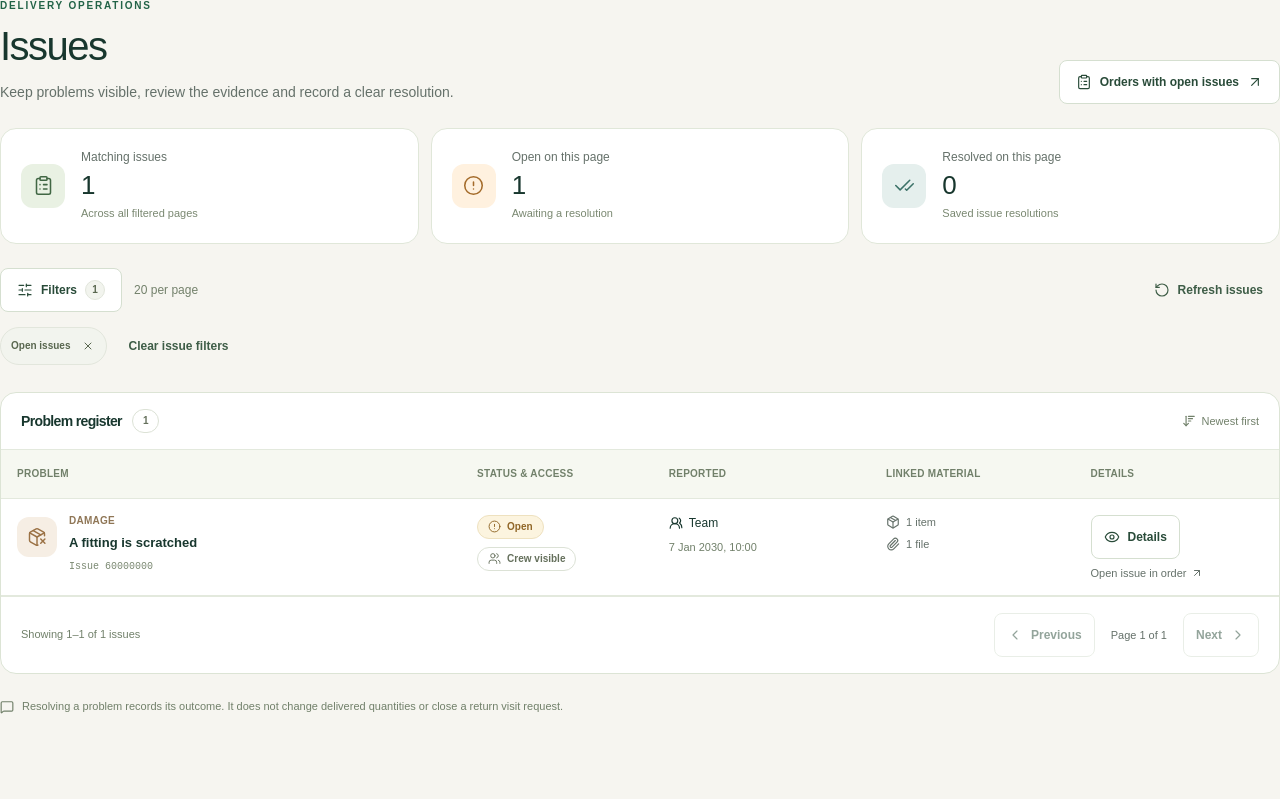
Test: Backoffice issue directory › keeps authoritative resolved details open when the OPEN row disappears
The width and height of the screenshot is (1280, 799).
Click the button "A fitting is scratched" at (133, 542), box x1=69 y1=532 x2=197 y2=553
(page scrolled)
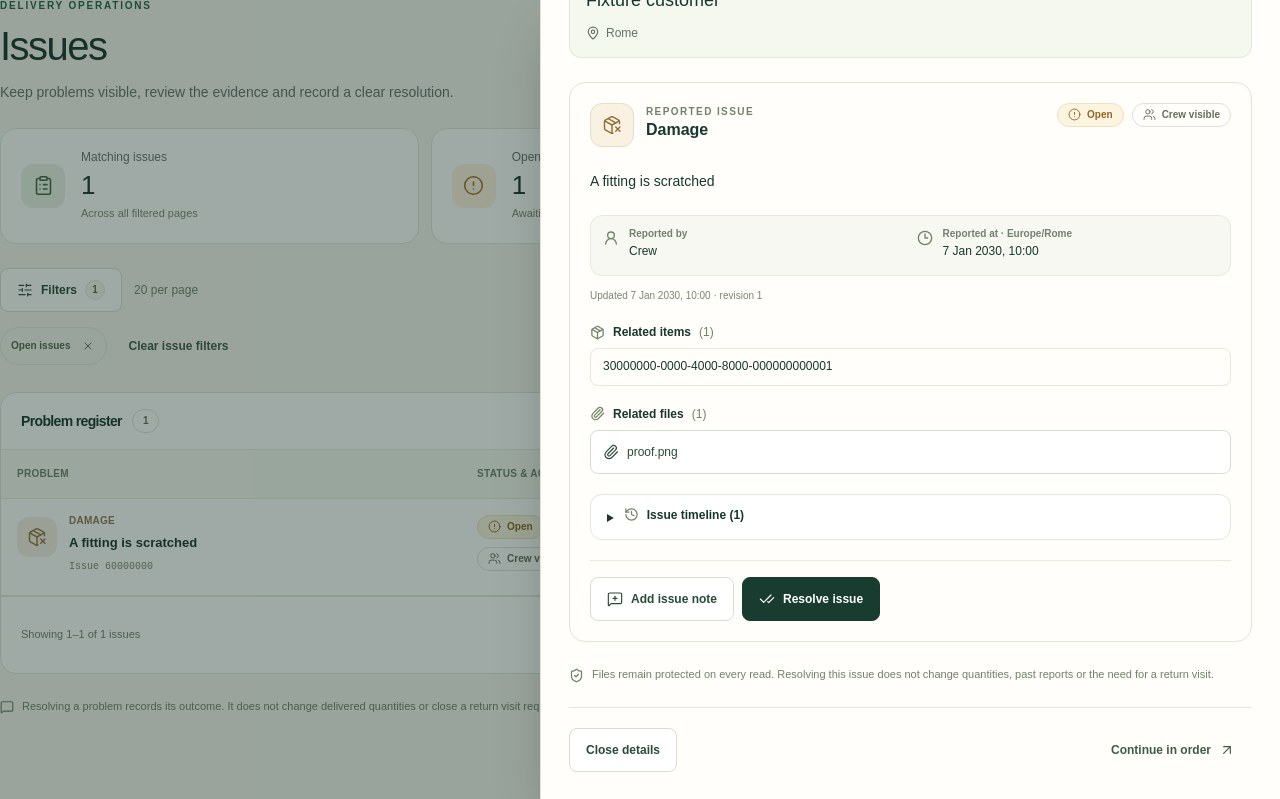
Click the button "Resolve issue" at (811, 598), box x1=742 y1=576 x2=880 y2=620
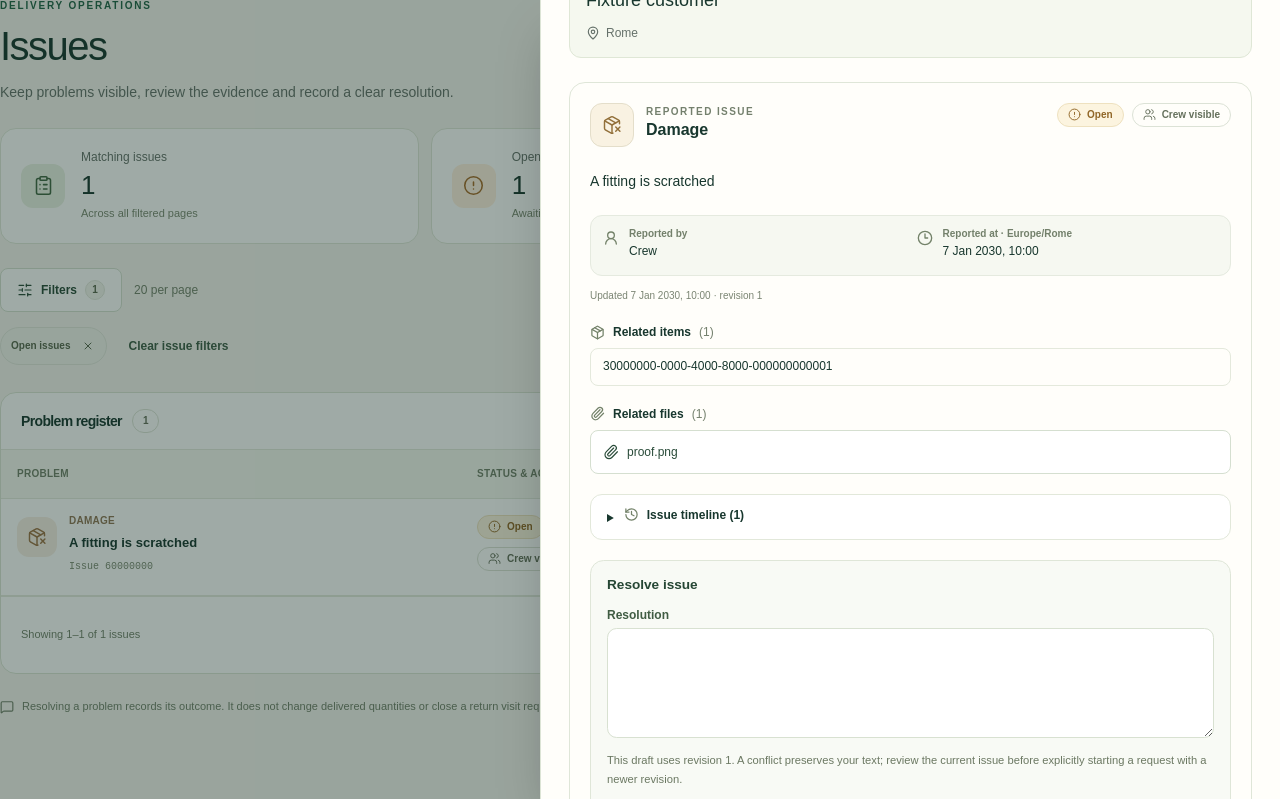
Type "Repaired and checked" into the text box labelled "Resolution" at (910, 683), box x1=607 y1=628 x2=1214 y2=738
(page scrolled)
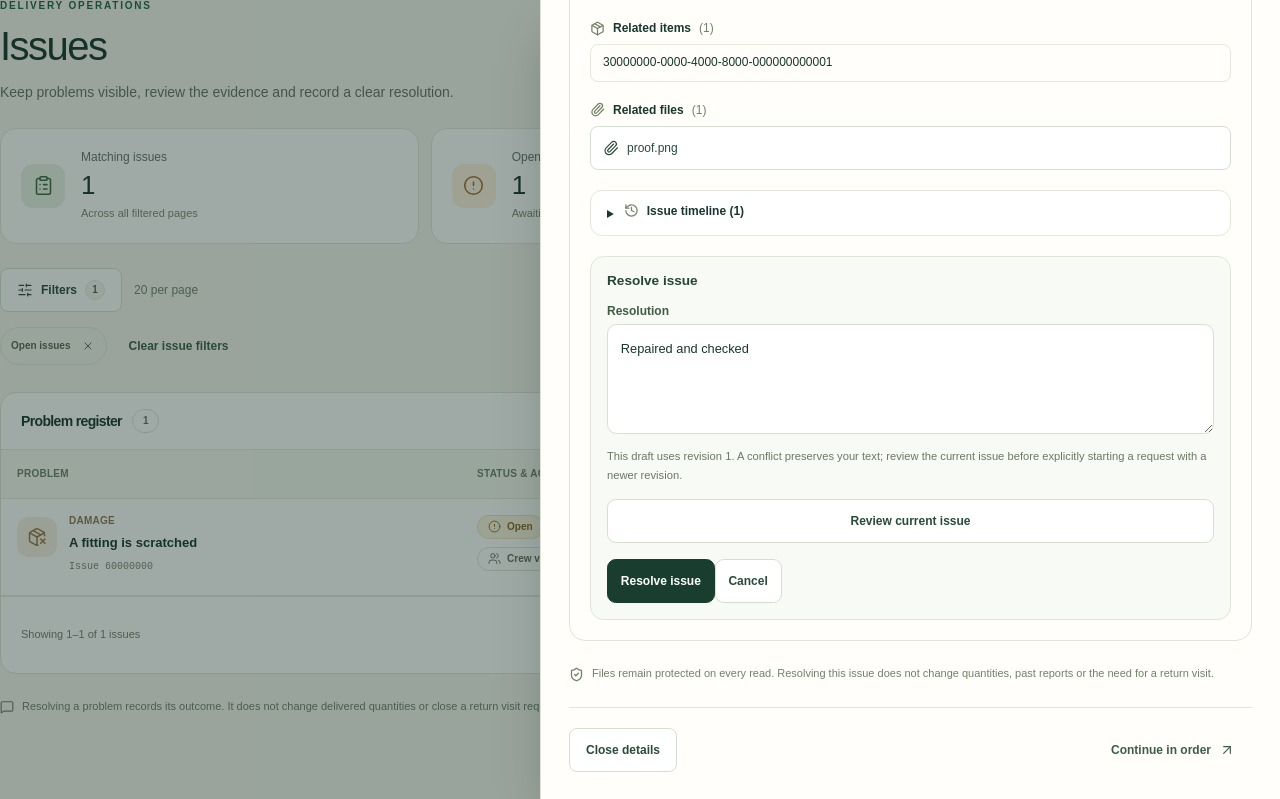
Submit the form "Resolve issue", box x1=590 y1=256 x2=1231 y2=620
(page scrolled)
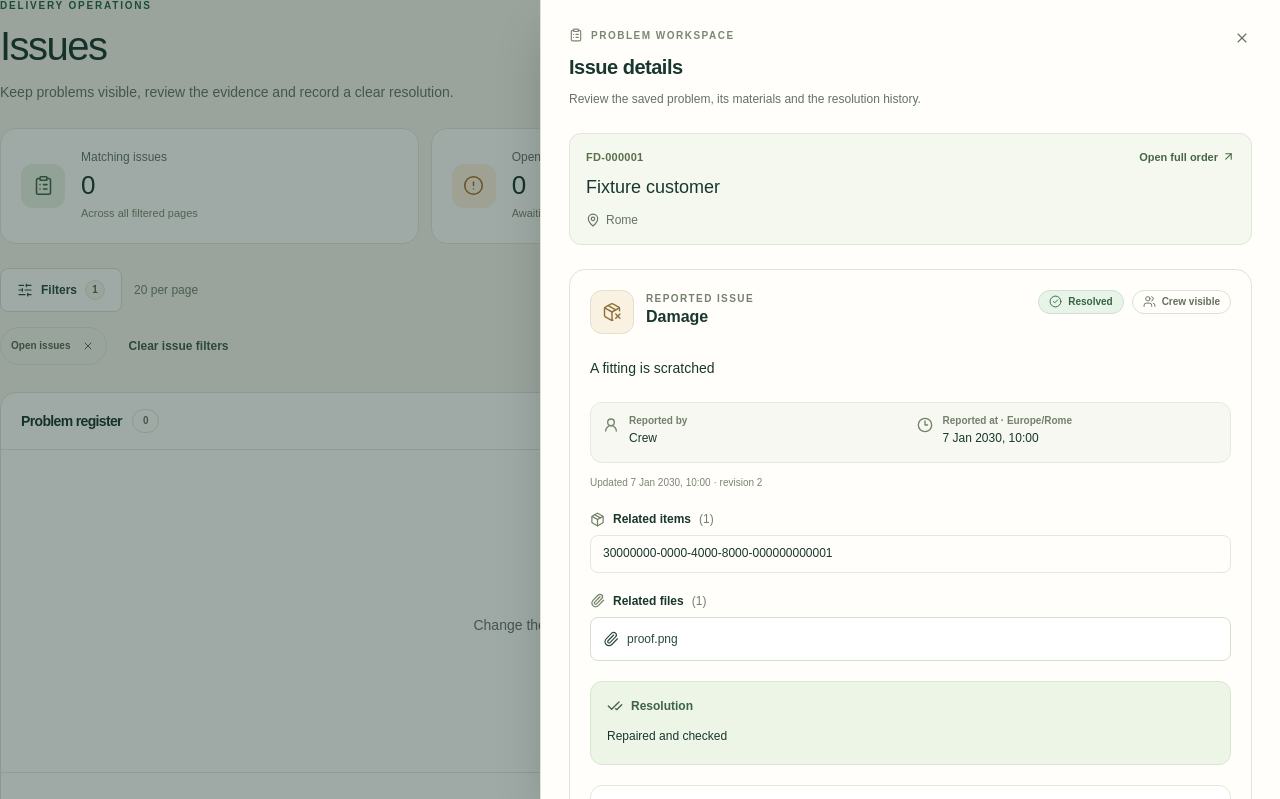
Now the text "Repaired and checked" is shown, box x1=607 y1=729 x2=727 y2=743
Now the heading "No matching issues" is shown, box x1=562 y1=574 x2=719 y2=602
Now the text "Resolved" is shown, box x1=1038 y1=290 x2=1124 y2=314
